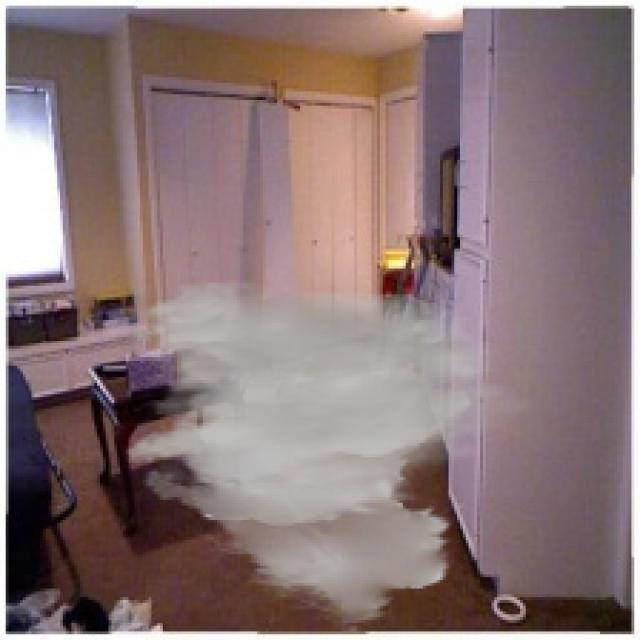Smoke: (123, 280, 540, 634)
